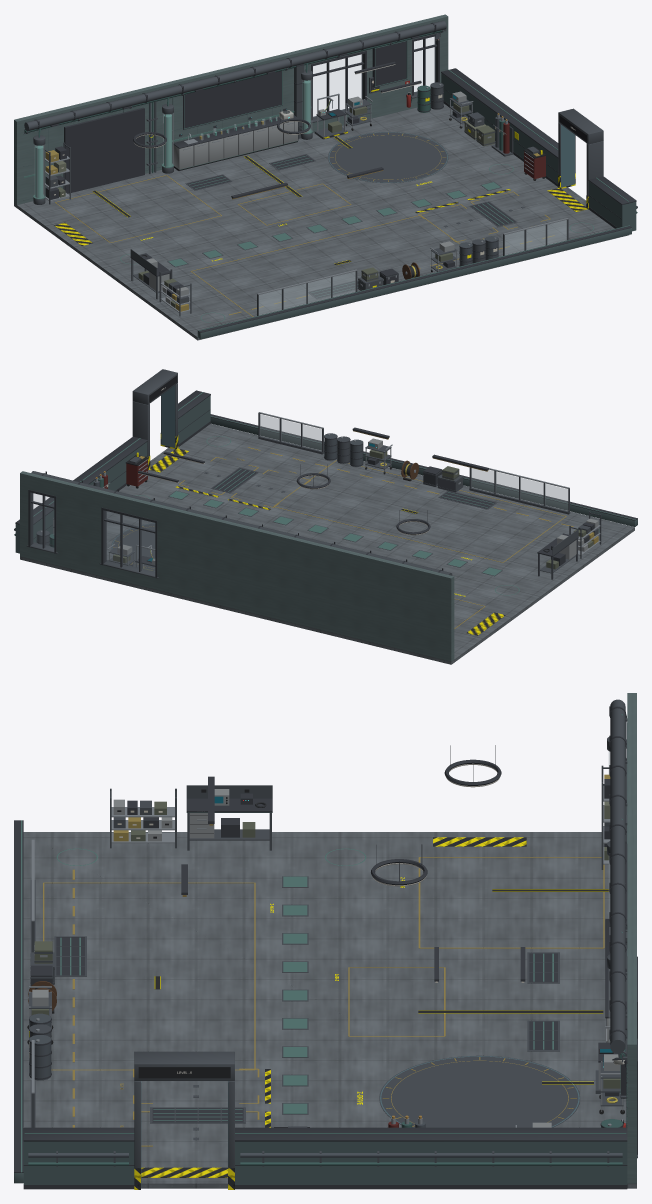
File: room_habit.glb
3 renders of one model, top to bottom at view 1: azimuth 30°, elevation 25°; view 2: azimuth 150°, elevation 25°; view 3: azimuth 270°, elevation 25°, orthographic. The views are drawn at different scales.
Visible parts, largest first — view 1: Body; view 2: Body; view 3: Body.
Boxes of the visible parts, left/top/right/bottom form: Body: left=14, top=14, right=637, bottom=340; Body: left=14, top=369, right=637, bottom=664; Body: left=14, top=693, right=637, bottom=1189.
Size of the model in its own units: 17.77 by 3.62 by 13.02.
Materials: 38 (3 with a texture image).
